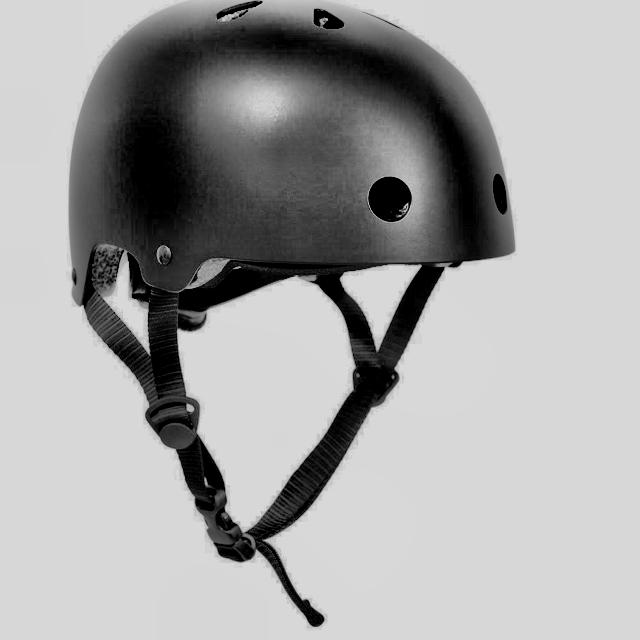Helmet: (45, 0, 568, 615)
